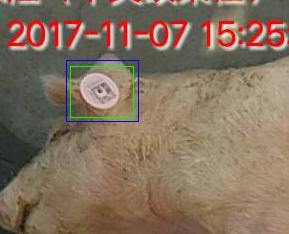text: (70, 66, 133, 117)
